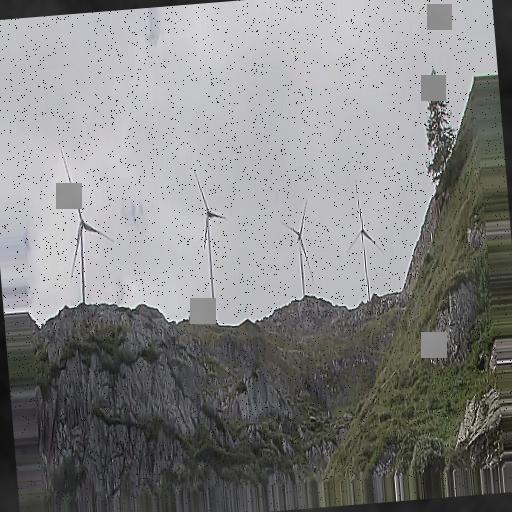wind turbine: (59, 147, 115, 306), (192, 172, 228, 325), (346, 188, 386, 297), (279, 199, 315, 297)
